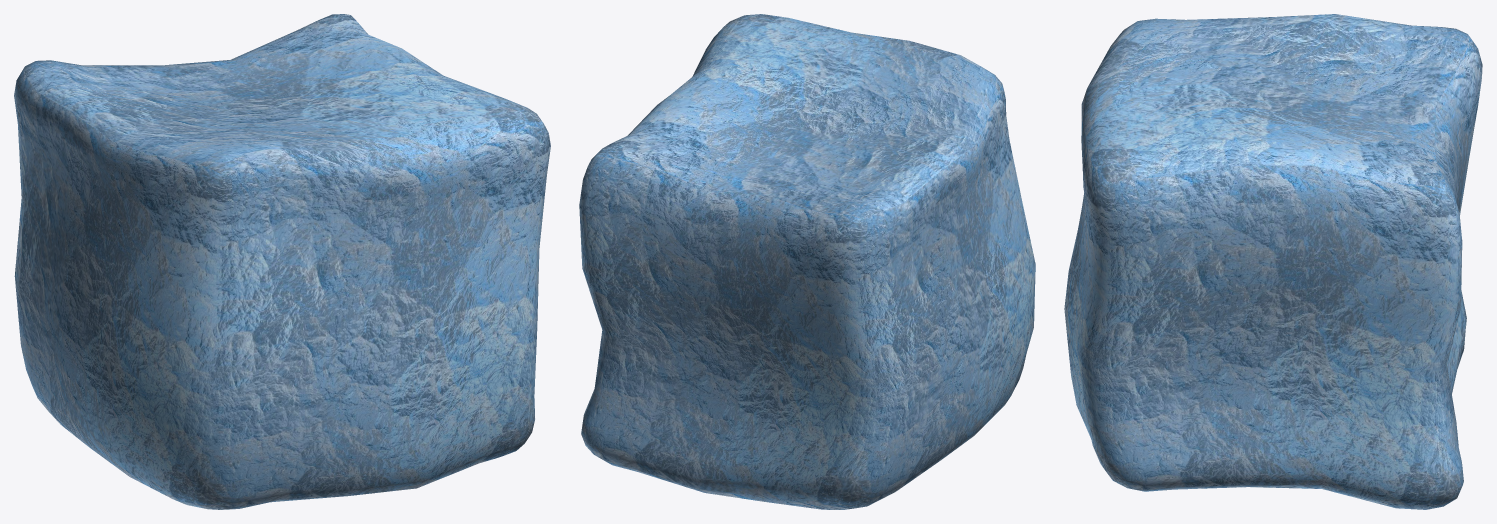
Rendered from ice_00_.FBX.
3 views of the same model, side by side, from view 1: azimuth 30°, elevation 25°; view 2: azimuth 150°, elevation 25°; view 3: azimuth 270°, elevation 25° (orthographic). The views are drawn at different scales.
Visible parts, largest first — view 1: ice_00_; view 2: ice_00_; view 3: ice_00_.
Boxes of the visible parts, box(x1,y1,x2,y2) form: ice_00_: box(14, 14, 550, 509); ice_00_: box(579, 14, 1035, 509); ice_00_: box(1064, 14, 1482, 509).
Bounding box in the file's own units: 28.31 × 28.46 × 28.3.
